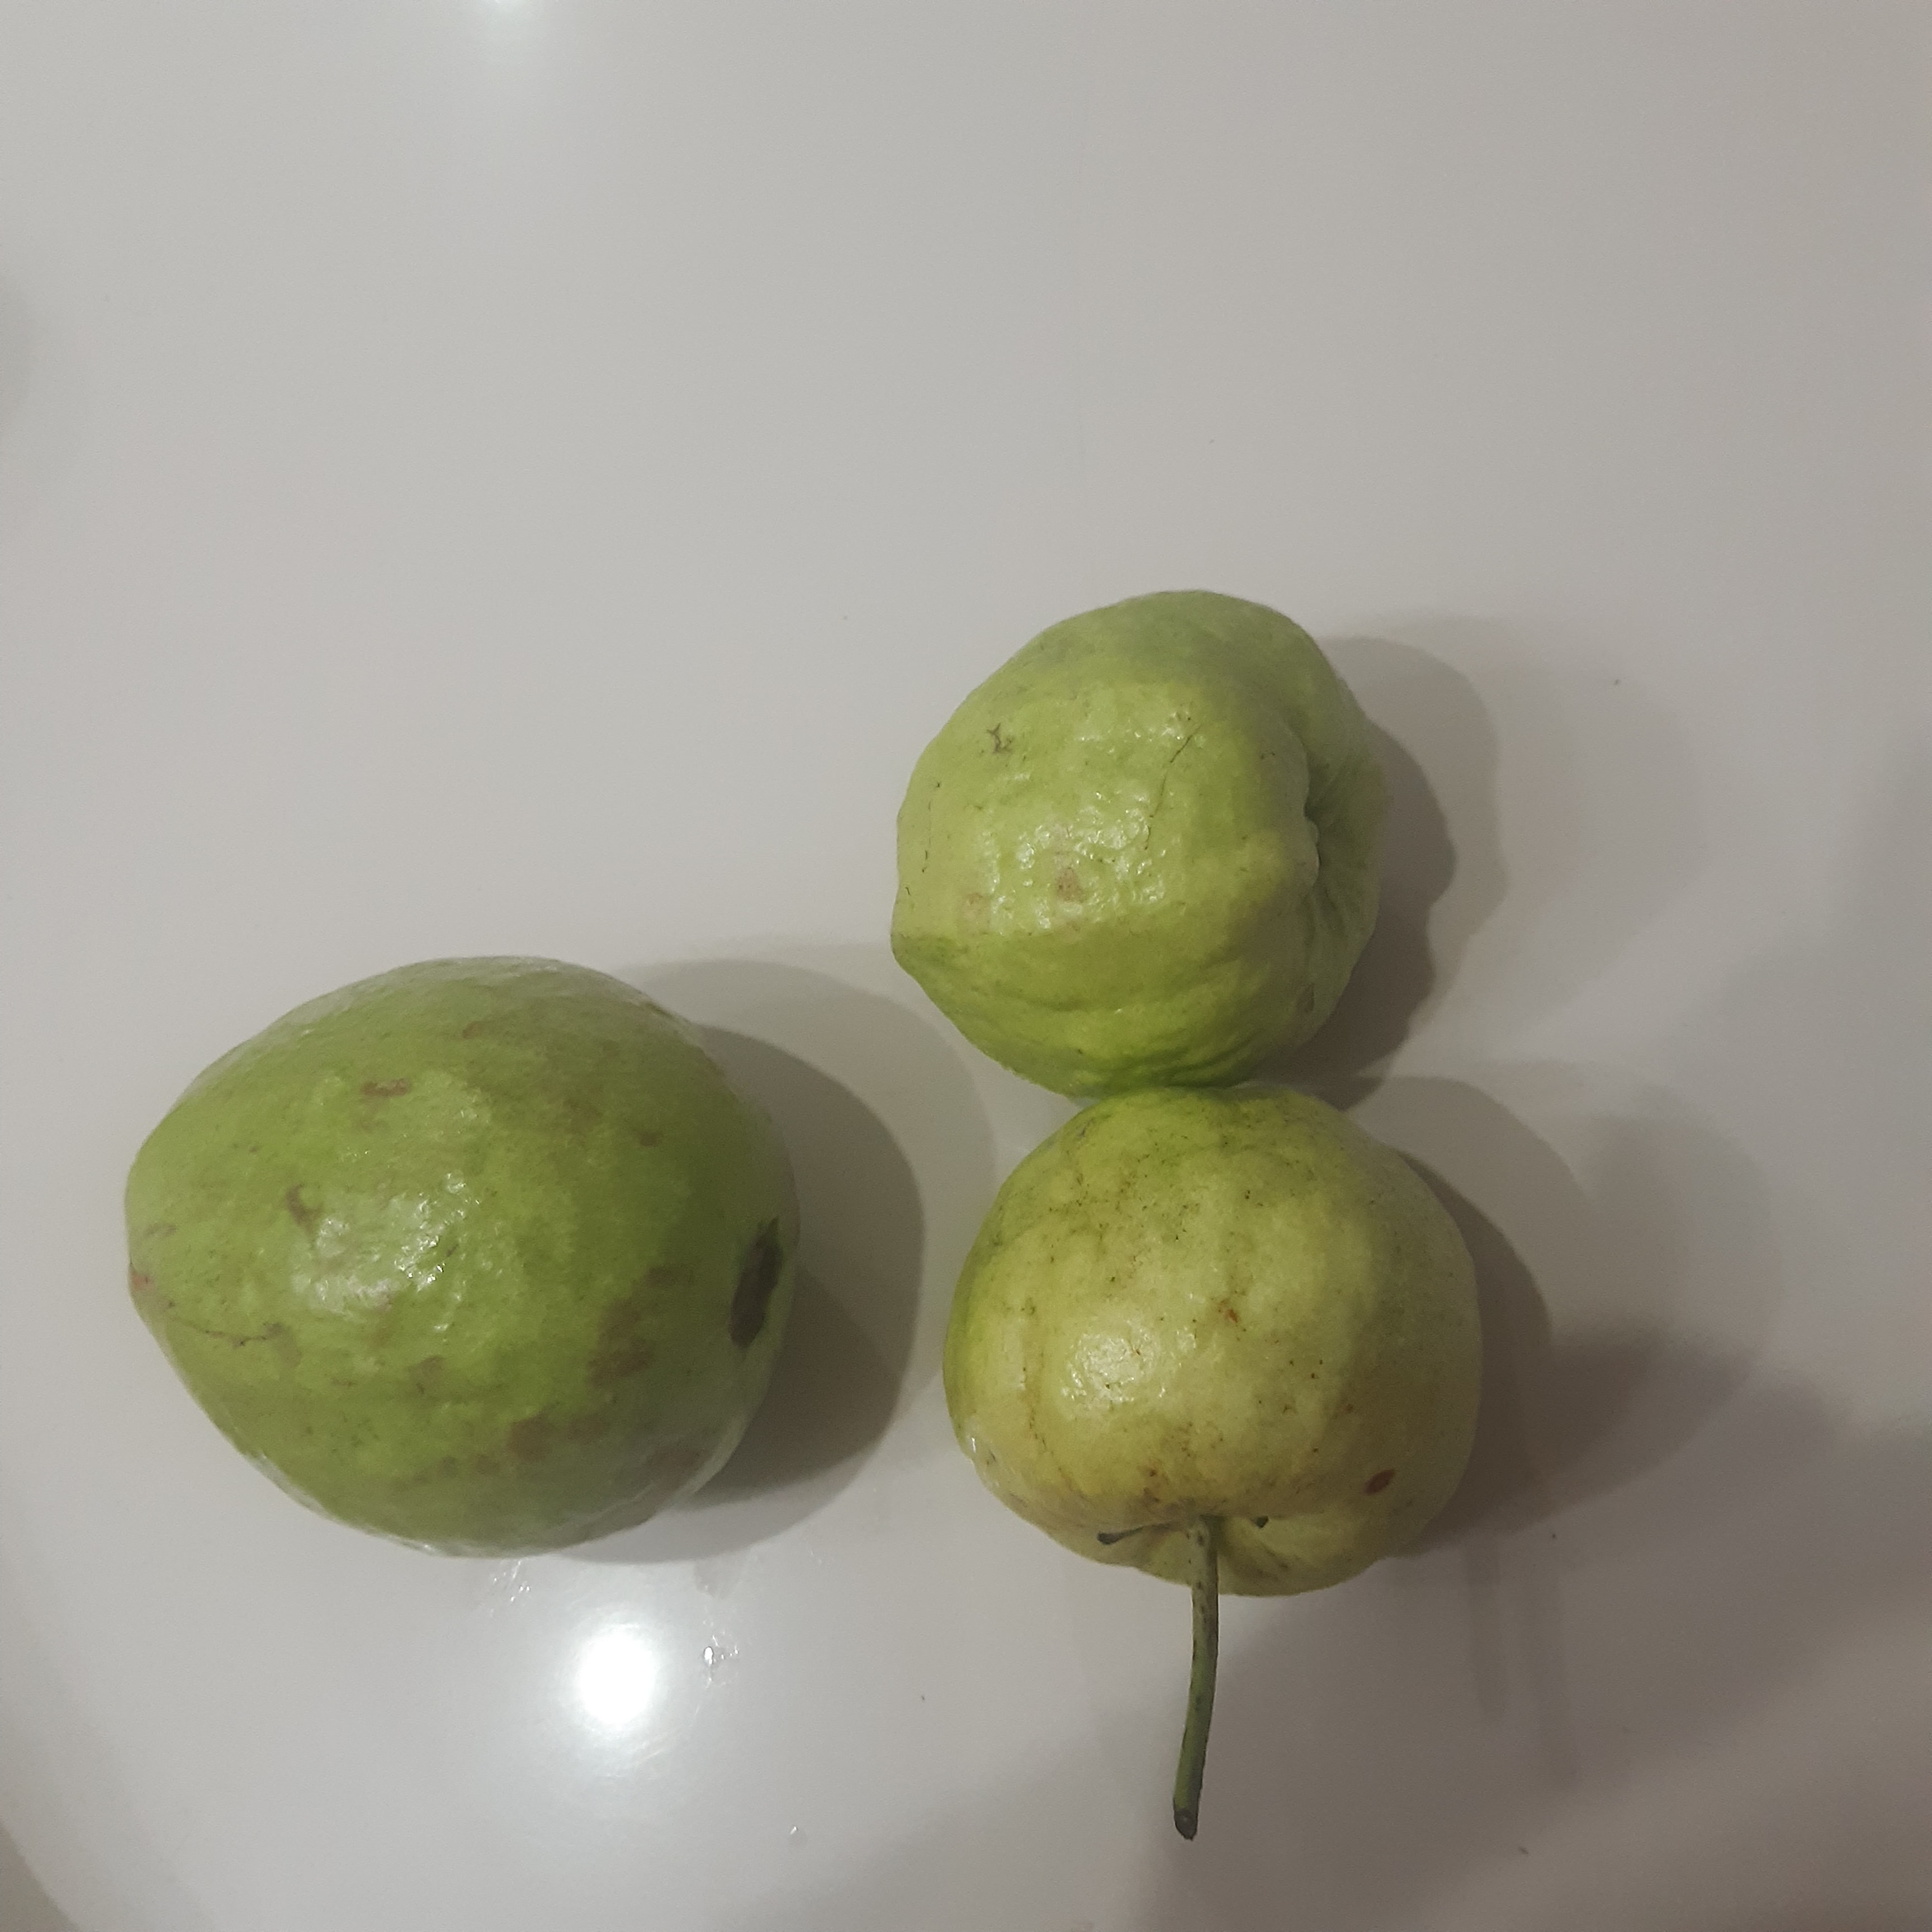Oi: (124, 956, 800, 1557), (946, 1083, 1485, 1596), (890, 591, 1388, 1093)
